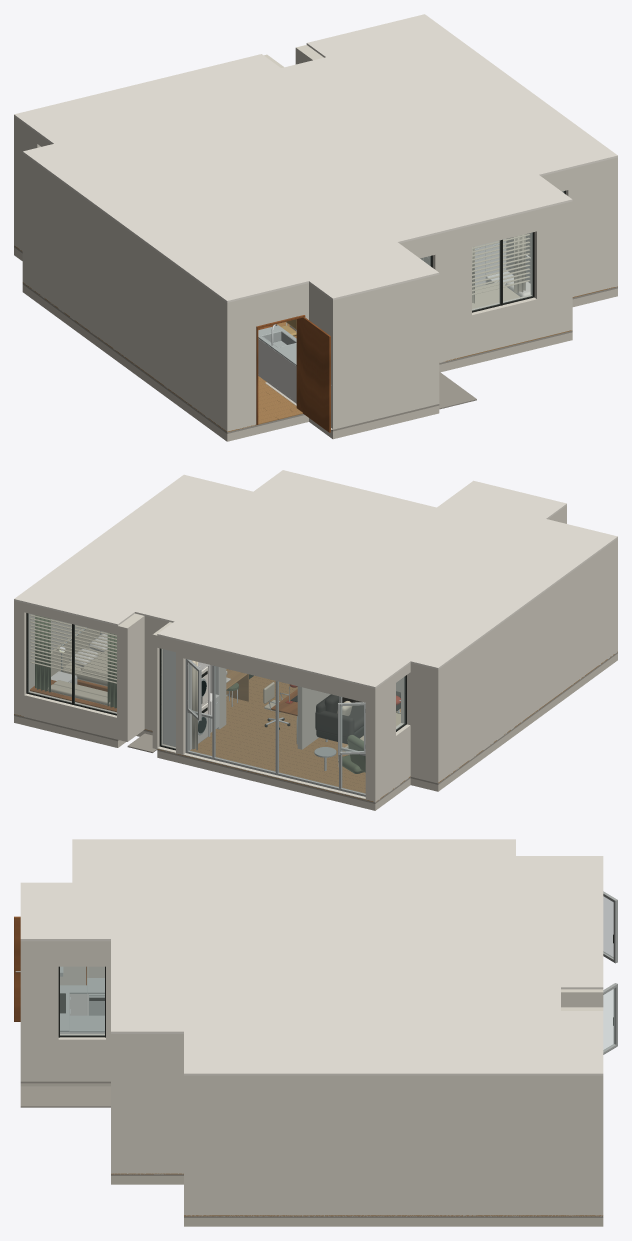
File: home-model-inset-600.glb
3 renders of one model, top to bottom at view 1: azimuth 30°, elevation 25°; view 2: azimuth 150°, elevation 25°; view 3: azimuth 270°, elevation 25°, orthographic. The views are drawn at different scales.
Visible parts, largest first — view 1: 全屋顶面, CAD墙体_36, CAD墙体_86, CAD墙体_01, CAD墙体_02, 完整户型基座, CAD墙体_04, CAD墙体_35, CAD墙体_05, CAD墙体_83, CAD墙体_20, 入户门 (+27 smaller); view 2: 全屋顶面, Floor_shared_温润橡木地板, CAD墙体_36, CAD墙体_86, 阳台F2中央固定玻璃, 阳台F1中央固定玻璃, CAD墙体_02, 完整户型基座, CAD墙体_01, 主卧窗玻璃.001, 主卧窗玻璃, CAD墙体_05 (+34 smaller); view 3: 全屋顶面, CAD墙体_43, CAD墙体_01, CAD墙体_04, CAD墙体_86, CAD墙体_26, 完整户型基座, CAD墙体_83, CAD墙体_34, 厨房窗玻璃, CAD墙体_40, CAD墙体_85 (+23 smaller).
Part boxes in pixels (x1,y1,x2,y2): 全屋顶面: (14, 14, 617, 302); CAD墙体_36: (22, 190, 256, 373); CAD墙体_86: (14, 45, 617, 313); CAD墙体_01: (289, 262, 617, 428); CAD墙体_02: (14, 221, 256, 430); 完整户型基座: (14, 247, 617, 441); CAD墙体_04: (331, 248, 617, 404); CAD墙体_35: (308, 311, 439, 371); CAD墙体_05: (14, 207, 256, 407); CAD墙体_83: (22, 61, 617, 321); CAD墙体_20: (14, 193, 256, 390); 入户门: (303, 317, 330, 432); 全屋顶面: (14, 470, 617, 688); Floor_shared_温润橡木地板: (14, 651, 617, 801); CAD墙体_36: (401, 570, 617, 731); CAD墙体_86: (14, 505, 617, 697); 阳台F2中央固定玻璃: (215, 666, 275, 771); 阳台F1中央固定玻璃: (278, 682, 338, 787); CAD墙体_02: (365, 630, 617, 801); 完整户型基座: (14, 653, 617, 810); CAD墙体_01: (14, 691, 228, 747); 主卧窗玻璃.001: (28, 613, 71, 702); 主卧窗玻璃: (74, 625, 116, 713); CAD墙体_05: (365, 618, 617, 780); 全屋顶面: (20, 839, 603, 1075); CAD墙体_43: (184, 1115, 603, 1152); CAD墙体_01: (20, 1054, 603, 1214); CAD墙体_04: (20, 1034, 603, 1189); CAD墙体_86: (20, 941, 603, 1086); CAD墙体_26: (184, 1159, 603, 1171); 完整户型基座: (20, 1083, 603, 1226); CAD墙体_83: (20, 956, 603, 1095); CAD墙体_34: (184, 1152, 603, 1159); 厨房窗玻璃: (60, 967, 104, 1035); CAD墙体_40: (111, 1073, 183, 1110); CAD墙体_85: (20, 952, 603, 1090).
Size of the model in its own units: 9.73 by 2.96 by 10.6.
33 materials, 3 textured.
